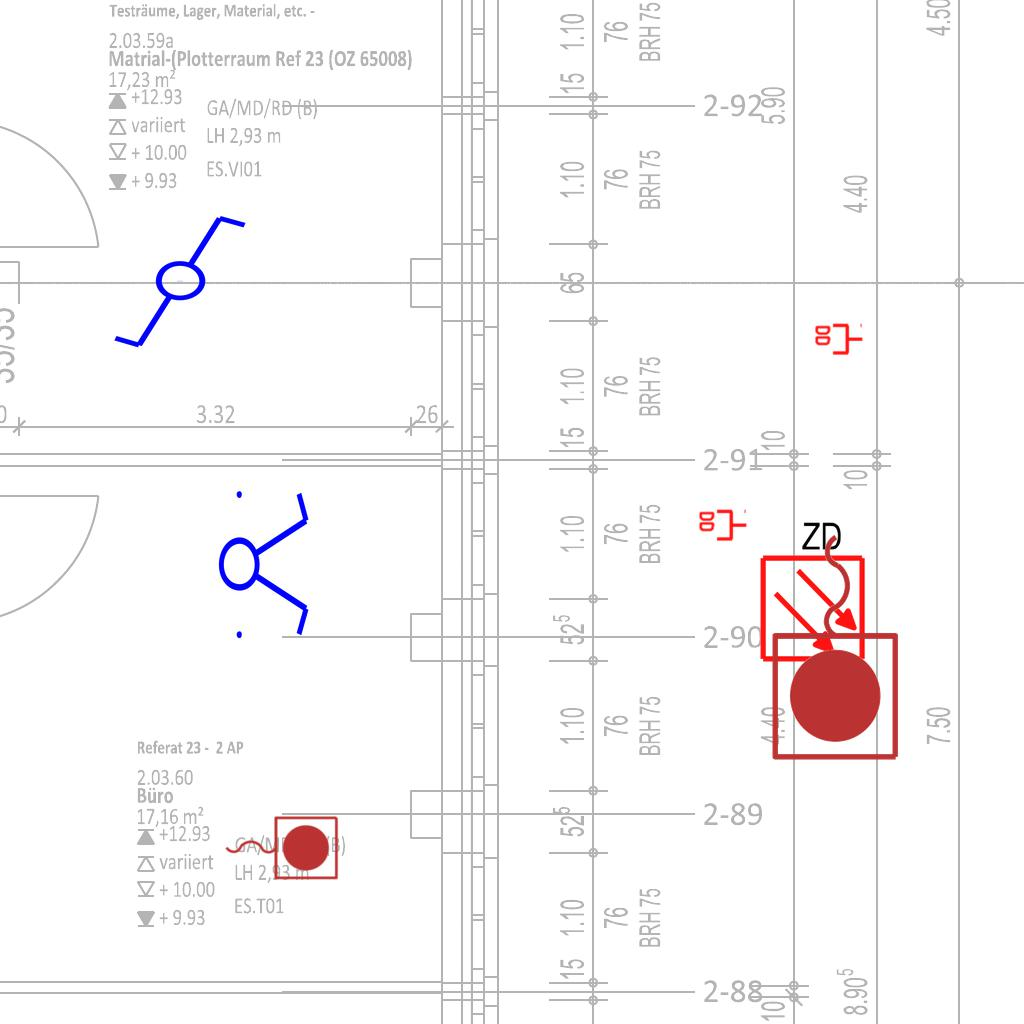Datenanschluss_zweifach: (813, 323, 864, 357), (697, 509, 748, 543)
Serienschalter: (217, 479, 313, 647)
Wechselschalter: (110, 211, 267, 355)
ZD_Melder_in_Zwischendecke_mit_Revisionsoeffnung_mind_40_x_40_cm: (754, 515, 868, 664)
Zugtaster: (765, 524, 909, 768), (220, 811, 342, 883)
